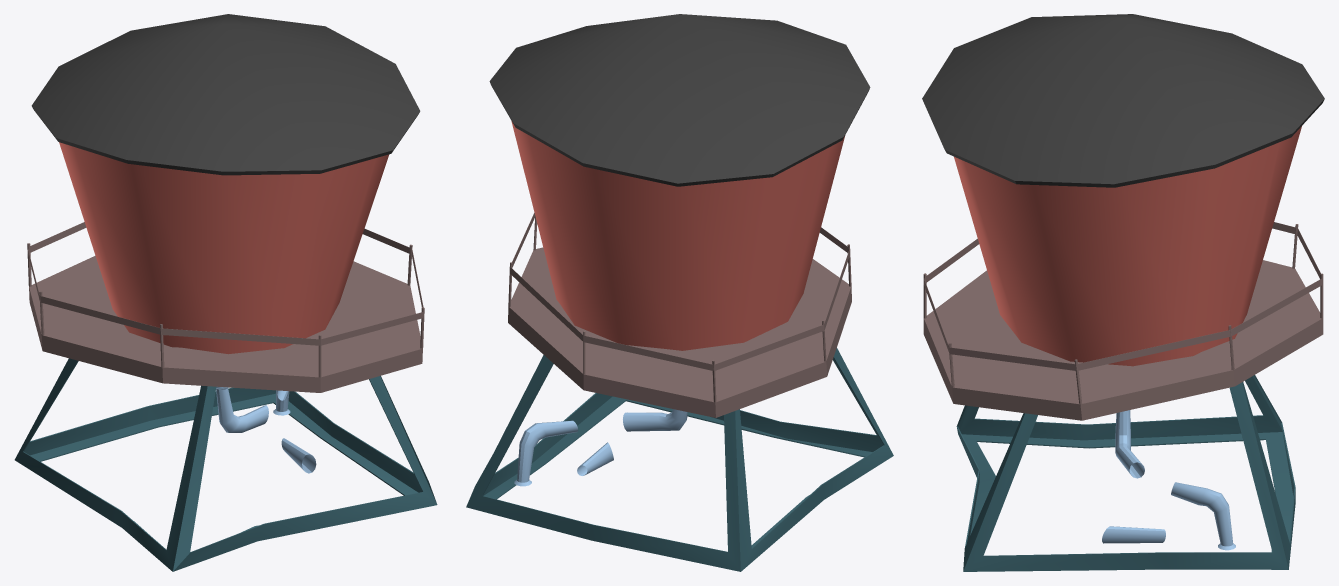
File: Water_Tank.fbx
3 renders of one model, left to right at view 1: azimuth 30°, elevation 25°; view 2: azimuth 150°, elevation 25°; view 3: azimuth 270°, elevation 25°, orthographic. The views are drawn at different scales.
Parts seen in each view (by area): view 1: Cylinder.002, Cylinder.001, Cube.001, Cube, Cylinder, Cylinder.003; view 2: Cylinder.002, Cylinder.001, Cube.001, Cube, Cylinder, Cylinder.003; view 3: Cylinder.002, Cylinder.001, Cube.001, Cube, Cylinder, Cylinder.003.
Boxes of the visible parts, <box> form: Cylinder.002: <box>31,14,420,175</box>; Cylinder.001: <box>59,142,389,354</box>; Cube.001: <box>27,222,424,392</box>; Cube: <box>14,358,437,571</box>; Cylinder: <box>216,386,290,432</box>; Cylinder.003: <box>281,438,316,473</box>; Cylinder.002: <box>489,14,870,186</box>; Cylinder.001: <box>511,121,845,350</box>; Cube.001: <box>508,212,851,417</box>; Cube: <box>466,348,893,571</box>; Cylinder: <box>514,409,687,486</box>; Cylinder.003: <box>577,442,613,475</box>; Cylinder.002: <box>922,14,1324,187</box>; Cylinder.001: <box>954,126,1301,366</box>; Cube.001: <box>923,222,1323,420</box>; Cube: <box>956,375,1295,571</box>; Cylinder: <box>1115,410,1235,550</box>; Cylinder.003: <box>1102,526,1165,543</box>.
Size of the model in its own units: 1307 by 1743 by 1307.
